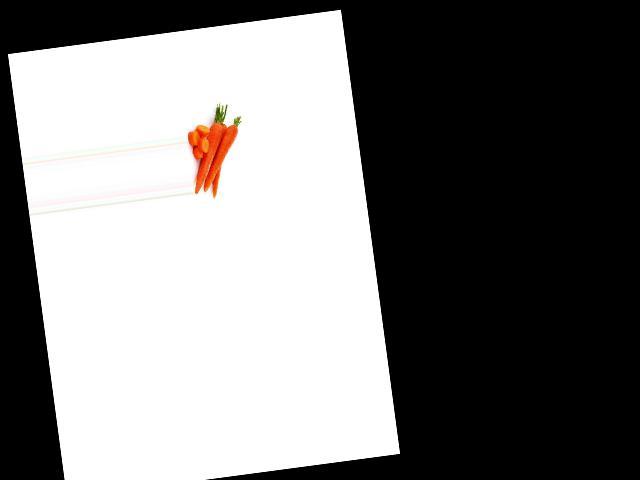carrot: (185, 113, 232, 193)
